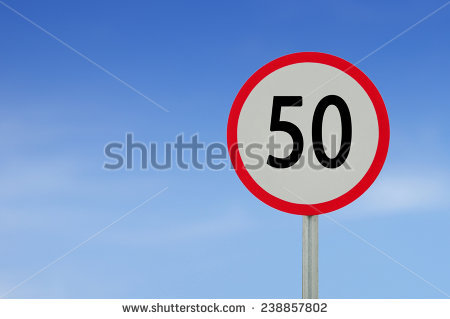Speed_limit_50km: (225, 52, 388, 212)
